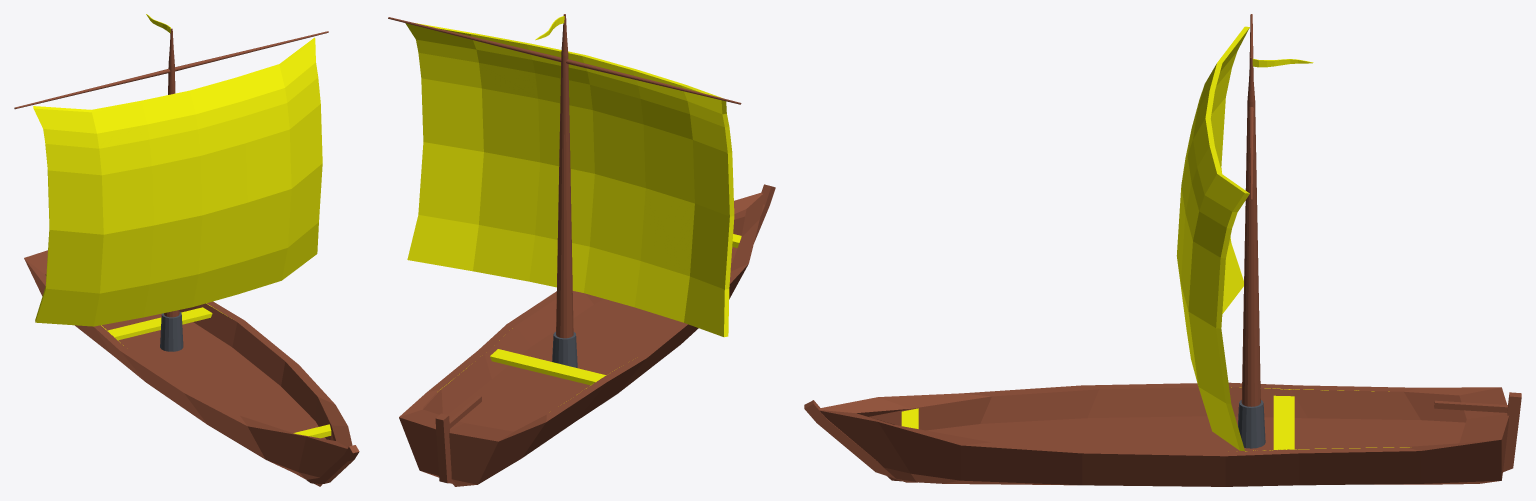
Rendered from Yellow Boat.fbx.
The picture shows the model from 3 angles, left to right: view 1: azimuth 30°, elevation 25°; view 2: azimuth 150°, elevation 25°; view 3: azimuth 270°, elevation 25°; orthographic projection. The views are drawn at different scales.
Visible parts, largest first — view 1: Kreis; view 2: Kreis; view 3: Kreis.
Part boxes in pixels (x1,y1,x2,y2): Kreis: [14, 14, 359, 486]; Kreis: [388, 14, 775, 486]; Kreis: [804, 14, 1521, 486].
Bounding box in the file's own units: 1400 × 1490 × 2291.
